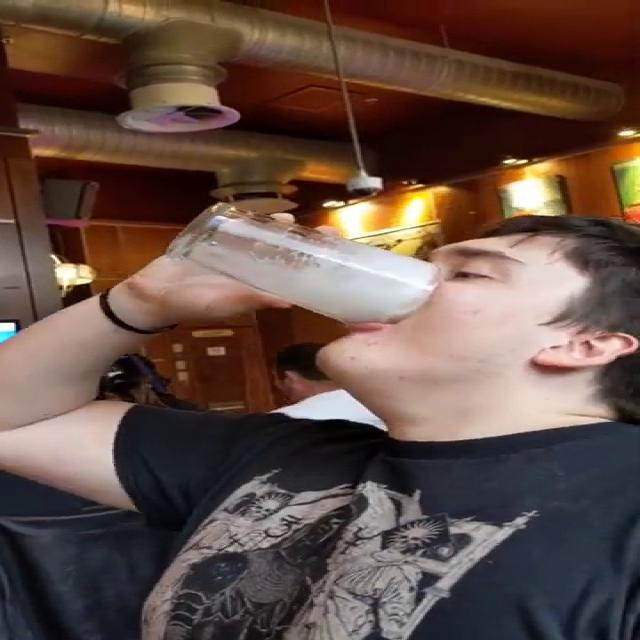Cup: (173, 202, 436, 323)
Hand: (108, 204, 348, 318)
Mouth: (336, 298, 416, 338)
